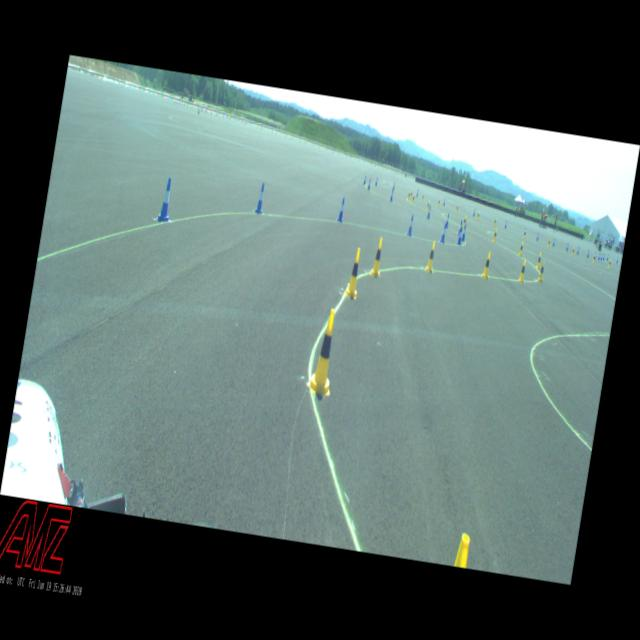blue_cone: (158, 177, 175, 220), (255, 182, 267, 213), (337, 197, 346, 222), (407, 215, 415, 235), (440, 224, 447, 244), (456, 227, 464, 244), (461, 224, 467, 240), (426, 204, 432, 218), (367, 178, 372, 190), (446, 214, 450, 228), (390, 188, 394, 202), (458, 222, 462, 236), (363, 175, 367, 185), (576, 246, 580, 255), (552, 238, 556, 246), (586, 250, 590, 258), (472, 208, 476, 216), (392, 182, 396, 190), (536, 232, 539, 242), (602, 253, 606, 260), (375, 177, 378, 186), (504, 220, 507, 228), (443, 198, 446, 206), (416, 188, 419, 196), (600, 253, 603, 260), (606, 253, 609, 260), (566, 242, 568, 250), (616, 256, 618, 264), (598, 253, 600, 260), (524, 228, 526, 235)
yellow_cone: (306, 308, 342, 396), (345, 248, 364, 298), (370, 236, 385, 276), (425, 240, 438, 272), (482, 252, 492, 278), (518, 259, 527, 282), (538, 260, 546, 282), (535, 252, 542, 270), (518, 241, 524, 257), (492, 229, 498, 242), (462, 215, 466, 228), (409, 190, 414, 200), (426, 200, 430, 212), (412, 193, 416, 204), (608, 259, 612, 268), (592, 254, 596, 263), (407, 192, 411, 200), (548, 238, 551, 248), (476, 212, 479, 220), (572, 247, 574, 256), (438, 198, 440, 207), (456, 204, 458, 212), (422, 194, 424, 202), (494, 218, 496, 226), (524, 230, 526, 238)
